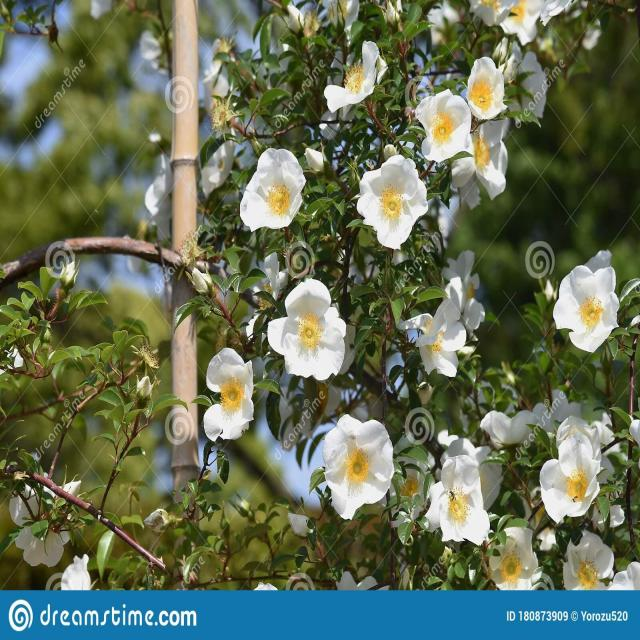organic waste: (316, 409, 397, 518), (271, 273, 353, 380), (360, 143, 440, 249), (555, 250, 625, 361), (423, 439, 492, 548), (534, 425, 608, 524), (450, 106, 520, 207), (234, 140, 313, 226), (397, 289, 473, 377), (312, 30, 388, 111), (200, 348, 262, 447), (14, 479, 80, 566), (420, 80, 477, 164), (499, 40, 555, 125), (443, 250, 493, 335), (488, 521, 546, 585), (459, 52, 507, 116), (561, 531, 615, 587)
